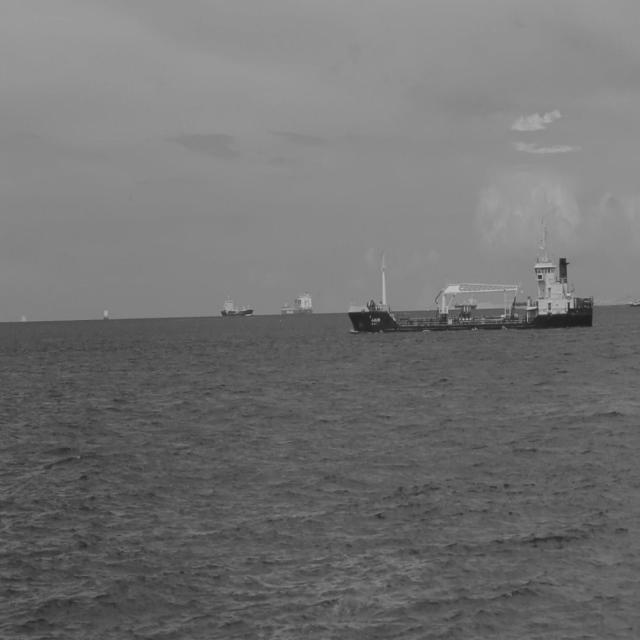ship: (346, 203, 596, 337), (278, 282, 316, 323), (217, 285, 255, 321)
